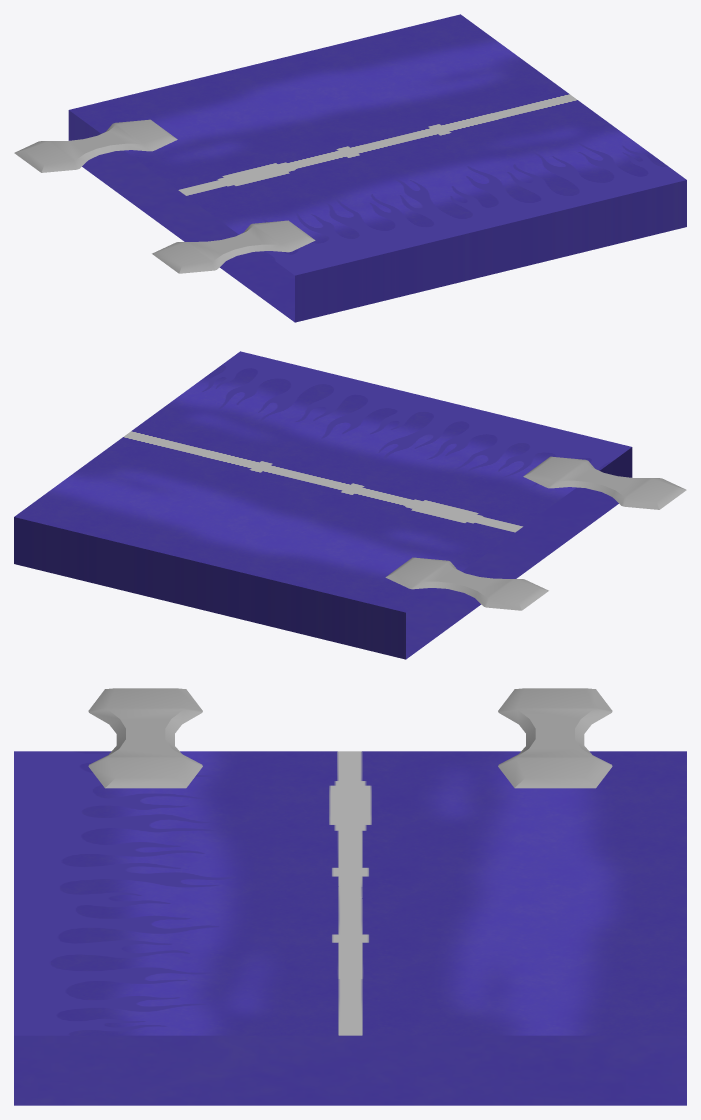
Rendered from PV_TStraight.fbx.
The picture shows the model from 3 angles, top to bottom: view 1: azimuth 30°, elevation 25°; view 2: azimuth 150°, elevation 25°; view 3: azimuth 270°, elevation 25°; orthographic projection. The views are drawn at different scales.
Visible parts, largest first — view 1: polySurface25, clip3; view 2: polySurface25, clip3; view 3: polySurface25, clip3.
Boxes of the visible parts, x1,y1,x2,y2 form: polySurface25: (68,14,686,322); clip3: (14,119,315,273); polySurface25: (14,351,632,659); clip3: (385,456,686,610); polySurface25: (14,751,686,1105); clip3: (88,688,612,788).
Size of the model in its own units: 2897 by 296 by 2379.
